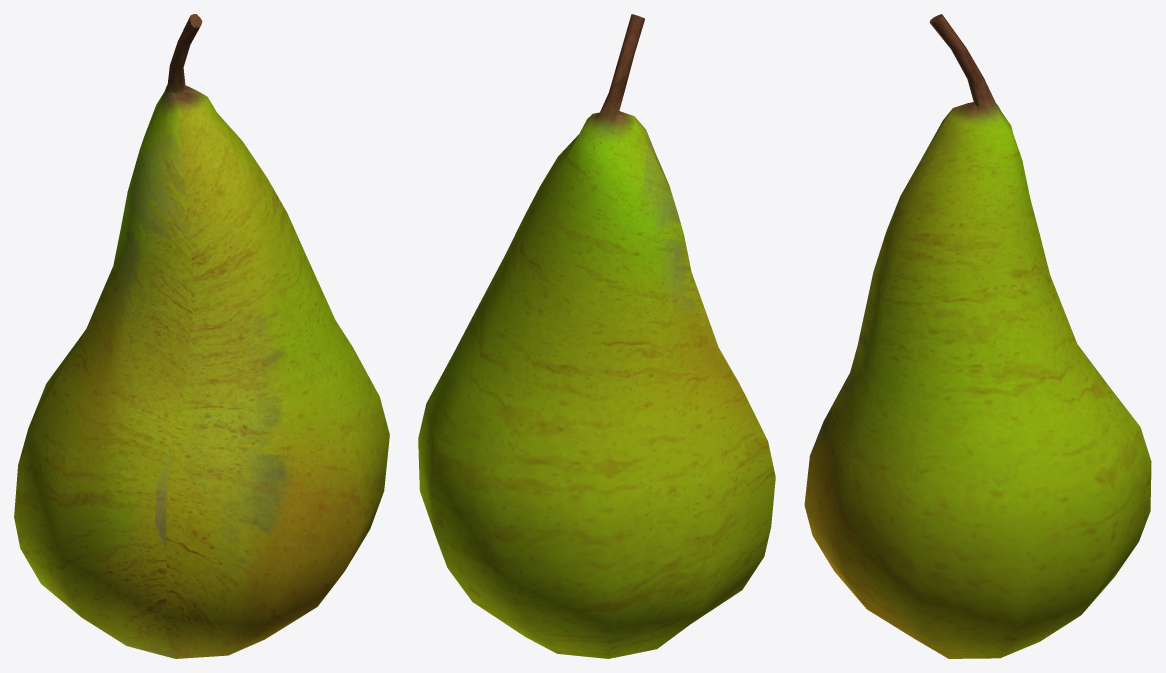
3 renders of one model, left to right at view 1: azimuth 30°, elevation 25°; view 2: azimuth 150°, elevation 25°; view 3: azimuth 270°, elevation 25°, orthographic. The views are drawn at different scales.
Parts seen in each view (by area): view 1: SM_Pear; view 2: SM_Pear; view 3: SM_Pear.
Boxes of the visible parts, bbox=[...] form: SM_Pear: bbox=[14, 14, 389, 658]; SM_Pear: bbox=[418, 14, 775, 658]; SM_Pear: bbox=[804, 14, 1151, 658].
Size of the model in its own units: 1.07 by 2 by 1.03.
Materials: 1 (1 with a texture image).
